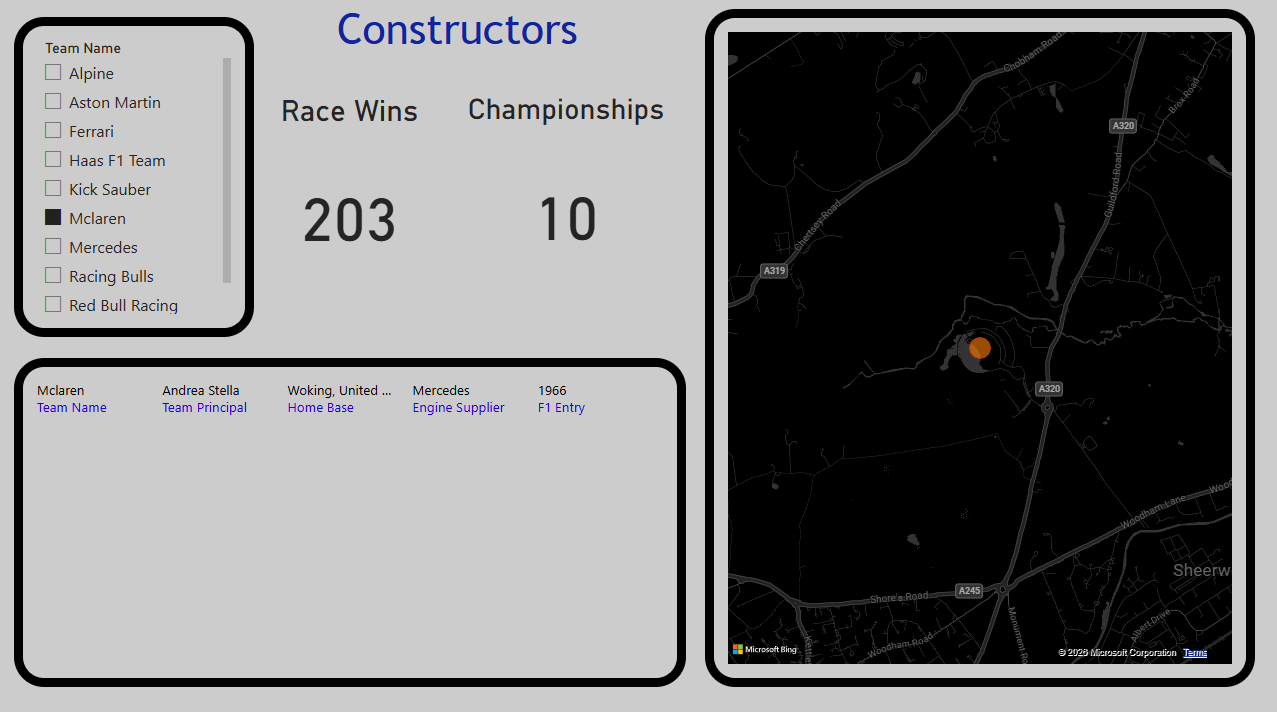

The dashboard page shown, as its layout file describes it:
{"tool":"powerbi","page":{"name":"Constructors","canvas":[1280,720],"ordinal":1},"visuals":[{"type":"multiRowCard","fields":{"Values":["Constructors_2025.Team Name","Constructors_2025.Team Principal","Constructors_2025.Home Base","Constructors_2025.Engine Supplier","Constructors_2025.F1 Entry "]},"box":[16.4,359.3,672.1,329.2],"z":0},{"type":"slicer","fields":{"Values":["Constructors_2025.Team Name"]},"box":[16.5,17.7,239.2,320.3],"z":1000},{"type":"textbox","box":[334.2,0,259.5,73.4],"z":2000},{"type":"card","fields":{"Values":["Constructors_2025.Show Wins"]},"box":[270.9,93.7,160.8,203.8],"z":3000},{"type":"card","fields":{"Values":["Constructors_2025.Show Championships"]},"box":[454.8,92.9,226.4,204.2],"z":4000},{"type":"map","fields":{"Y":["Constructors_2025.Latitude"],"X":["Constructors_2025.Longitude"]},"box":[706.7,10.5,550.3,677.3],"z":5000}]}

Visuals, with their boxes in screenshot pixels (x1, y1, x2, y2), scaled from the page's 1280x720 canvas onto the 1277x712 screenshot:
multiRowCard - Constructors_2025.Team Name x Constructors_2025.Team Principal: rect(16, 355, 687, 681)
slicer - Constructors_2025.Team Name: rect(16, 18, 255, 334)
textbox: rect(333, 0, 592, 73)
card - Constructors_2025.Show Wins: rect(270, 93, 431, 294)
card - Constructors_2025.Show Championships: rect(454, 92, 680, 294)
map - Constructors_2025.Latitude x Constructors_2025.Longitude: rect(705, 10, 1254, 680)
